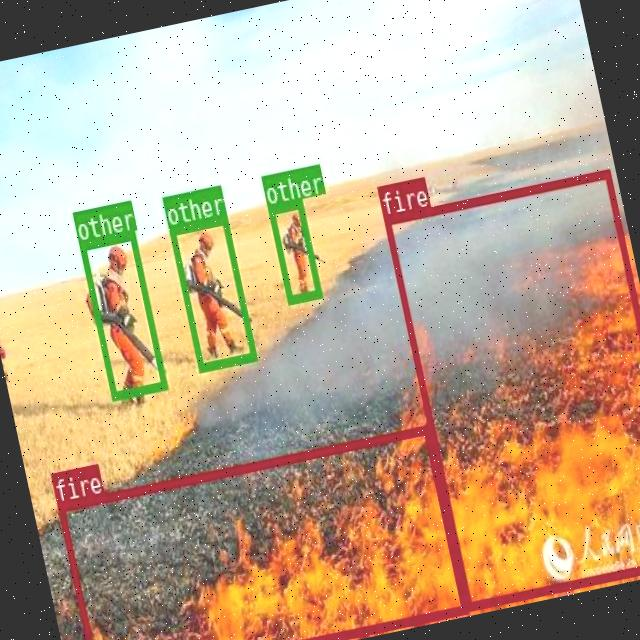fire: (382, 167, 640, 610), (55, 423, 466, 640)
